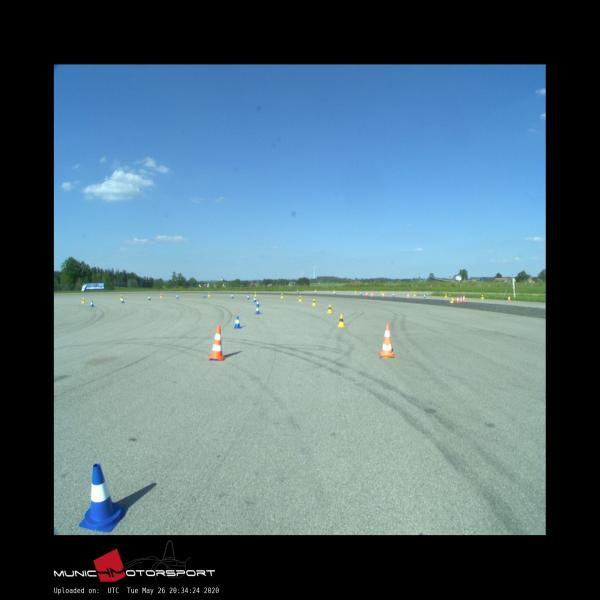blue_cone: (79, 464, 128, 532), (234, 316, 241, 327), (255, 305, 260, 314), (255, 300, 260, 306), (90, 300, 94, 307), (253, 297, 257, 302), (246, 295, 250, 299), (176, 294, 179, 299), (423, 293, 426, 298), (121, 298, 124, 302), (203, 294, 206, 298), (392, 293, 395, 297), (148, 295, 150, 300), (231, 293, 233, 298)
large_orange_cone: (208, 325, 224, 360), (379, 324, 394, 358)
orange_cone: (462, 296, 466, 301), (456, 296, 459, 302), (508, 296, 511, 301), (460, 296, 462, 302), (407, 294, 410, 298)
yellow_cone: (337, 314, 345, 326), (326, 304, 332, 313), (312, 298, 316, 306), (82, 297, 85, 303), (450, 297, 453, 303), (120, 295, 123, 300), (160, 293, 163, 298), (299, 296, 302, 301), (281, 293, 284, 298), (481, 295, 484, 299), (255, 292, 257, 297), (208, 292, 210, 296), (445, 293, 447, 297), (414, 292, 416, 296)
